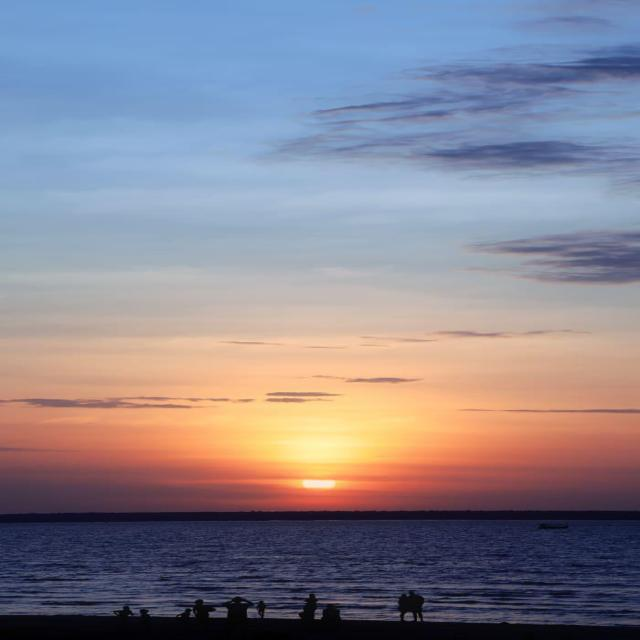other: (202, 412, 429, 510)
